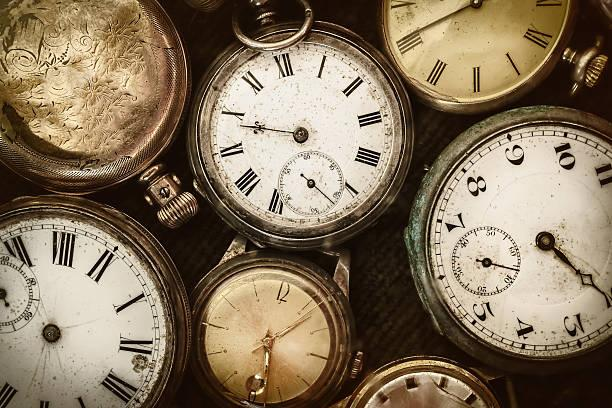clock: (416, 100, 612, 386), (192, 25, 414, 239), (2, 199, 190, 408), (195, 259, 354, 408), (385, 0, 576, 113)
